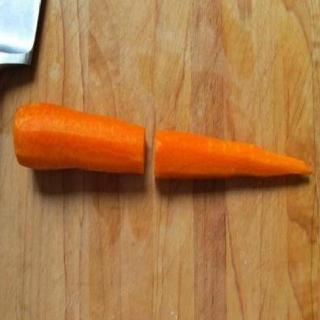carrot: (13, 103, 146, 179), (152, 129, 314, 186)
